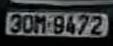0: (23, 14, 33, 34)
2: (91, 15, 103, 35)
3: (10, 14, 22, 34)
4: (66, 15, 77, 35)
7: (77, 14, 89, 36)
8: (53, 16, 65, 35)
M: (34, 14, 46, 34)
